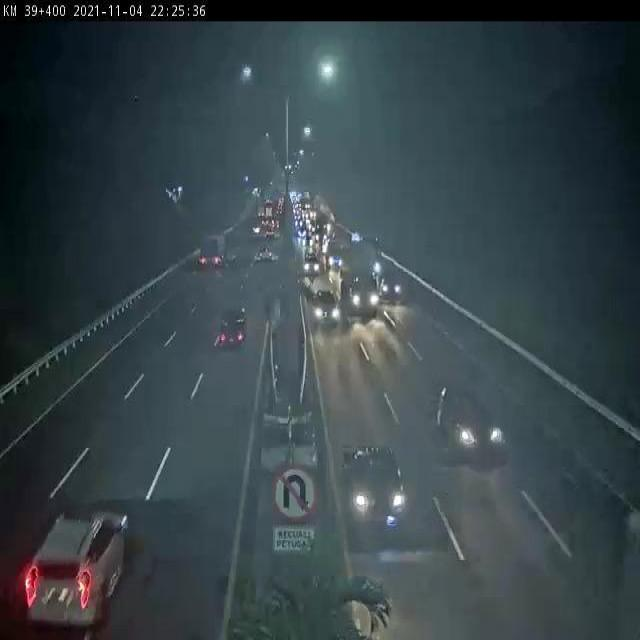car: (21, 514, 135, 622), (347, 447, 409, 528), (436, 386, 503, 458), (310, 288, 339, 324), (220, 311, 247, 348), (375, 267, 403, 301), (326, 240, 345, 272), (300, 251, 321, 276), (257, 245, 274, 264)
truck-s-: (197, 238, 223, 270)
truck-xl-: (338, 252, 379, 312)
